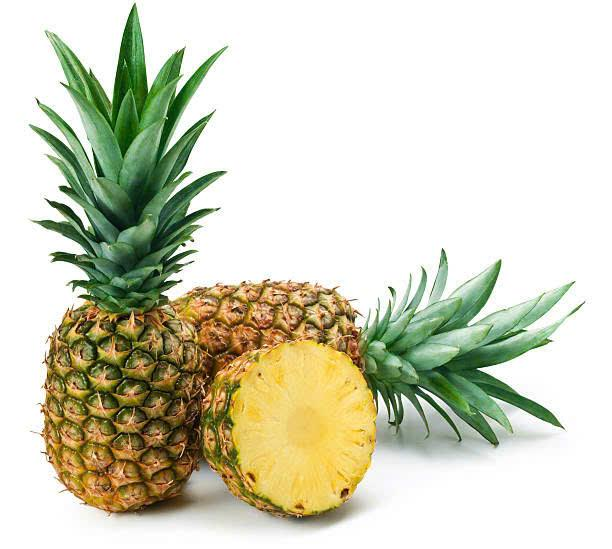pineapple: (176, 242, 591, 469), (44, 35, 209, 520), (212, 340, 379, 512)
